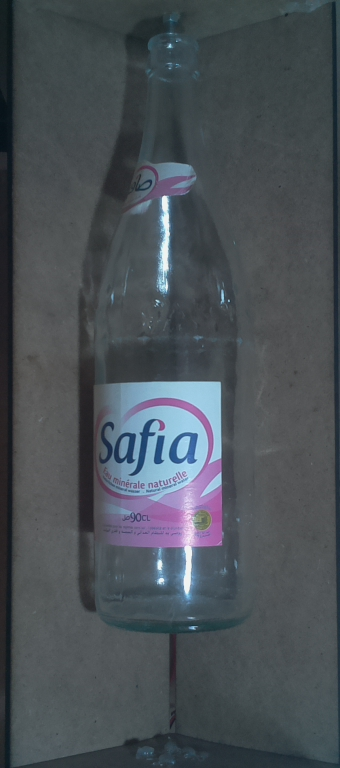Glass: (79, 16, 261, 640)
